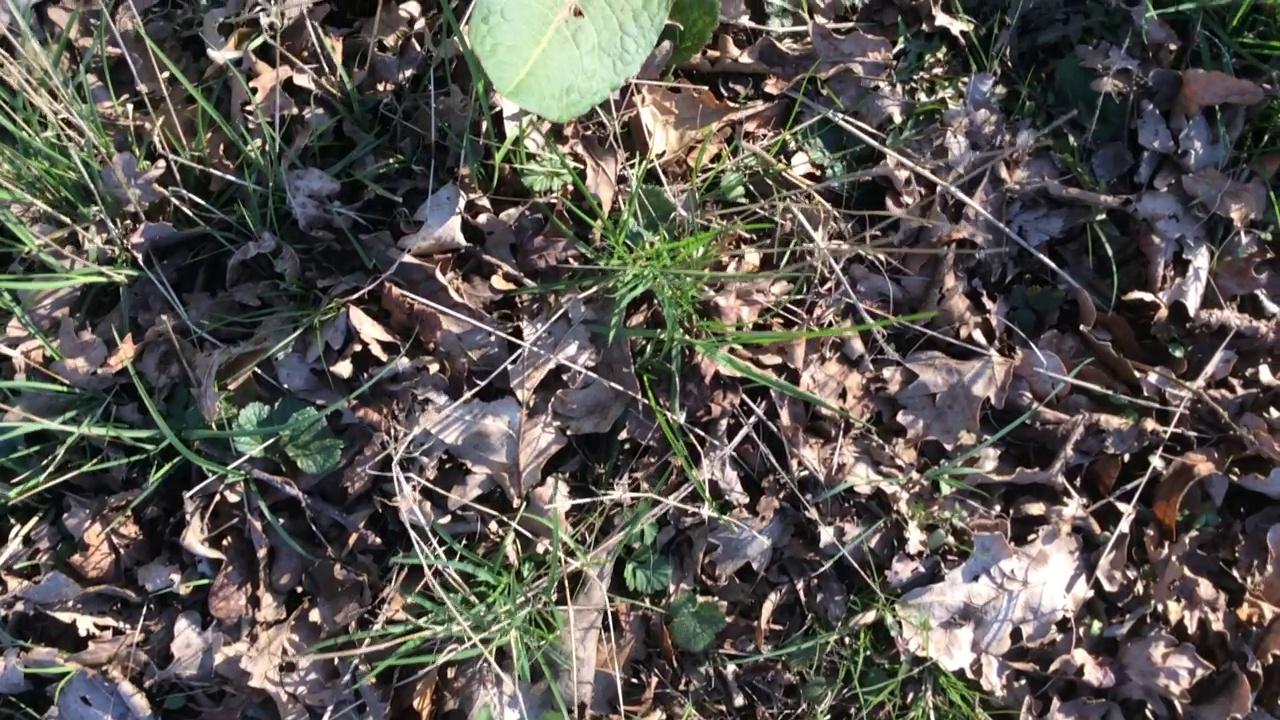rumex: (468, 1, 679, 120)
